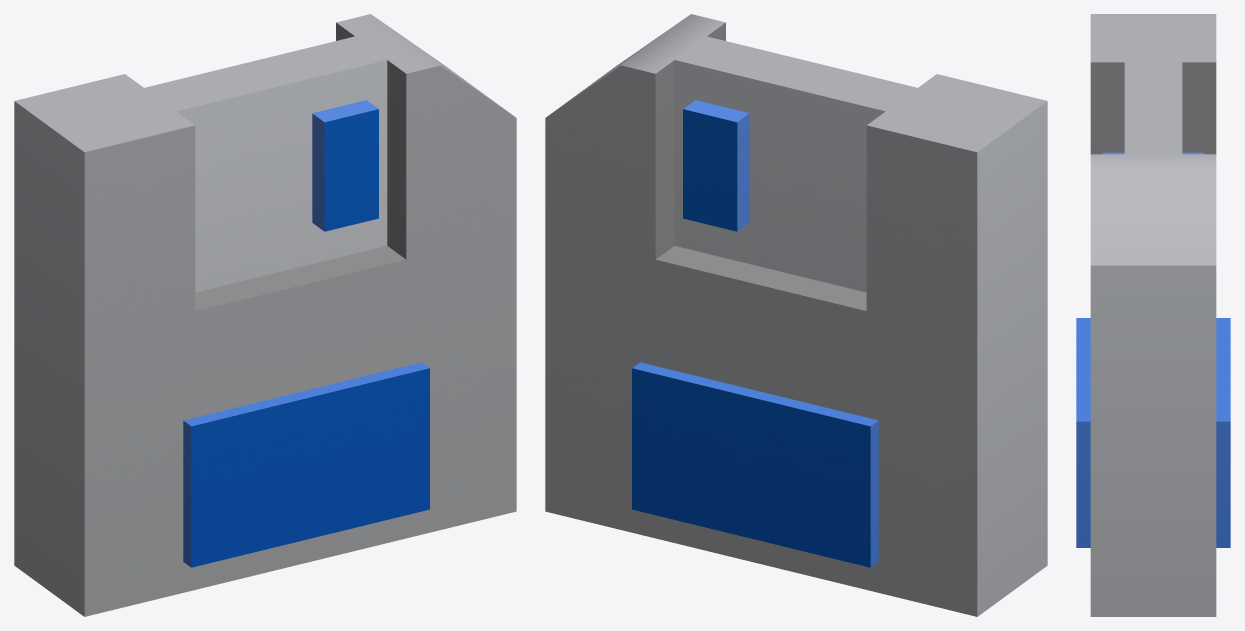
Rendered from SM_SaveDisc.fbx.
The picture shows the model from 3 angles, left to right: view 1: azimuth 30°, elevation 25°; view 2: azimuth 150°, elevation 25°; view 3: azimuth 270°, elevation 25°; orthographic projection. The views are drawn at different scales.
Parts seen in each view (by area): view 1: SM_SaveDisc; view 2: SM_SaveDisc; view 3: SM_SaveDisc.
Boxes of the visible parts, x1,y1,x2,y2 form: SM_SaveDisc: (14,14,516,616); SM_SaveDisc: (545,14,1047,616); SM_SaveDisc: (1076,14,1230,616).
Size of the model in its own units: 25.14 by 25.83 by 8.71.
